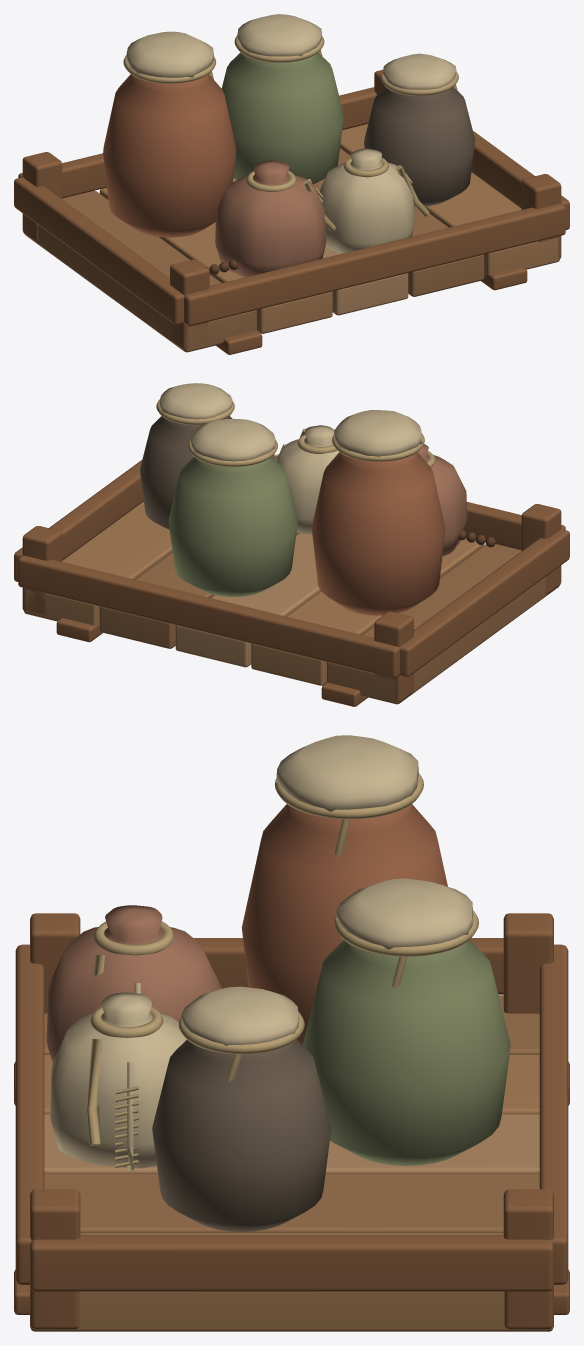
Rendered from spices.glb.
3 views of the same model, one above another, from view 1: azimuth 30°, elevation 25°; view 2: azimuth 150°, elevation 25°; view 3: azimuth 270°, elevation 25° (orthographic). The views are drawn at different scales.
Parts seen in each view (by area): view 1: Cargo_spices; view 2: Cargo_spices; view 3: Cargo_spices.
Boxes of the visible parts, x1,y1,x2,y2 form: Cargo_spices: [14, 14, 569, 354]; Cargo_spices: [14, 383, 569, 706]; Cargo_spices: [14, 735, 569, 1331].
Bounding box in the file's own units: 1.02 × 0.5595 × 0.775.
